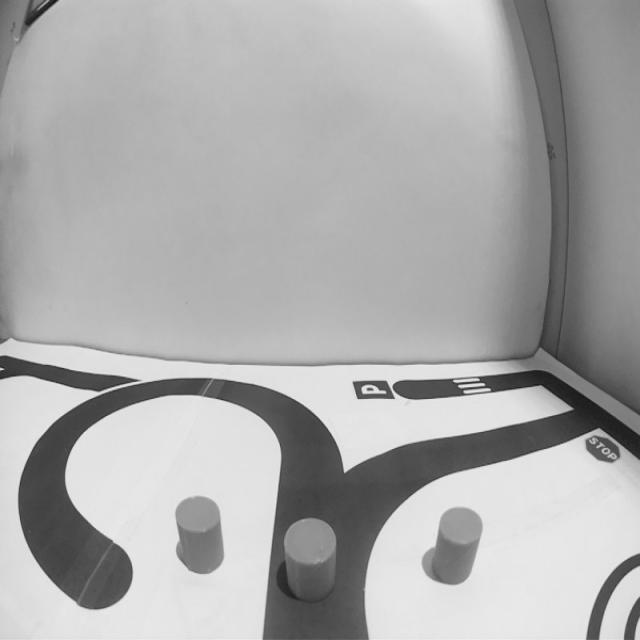cylinder: (282, 516, 338, 602), (431, 505, 484, 585), (174, 494, 225, 574)
